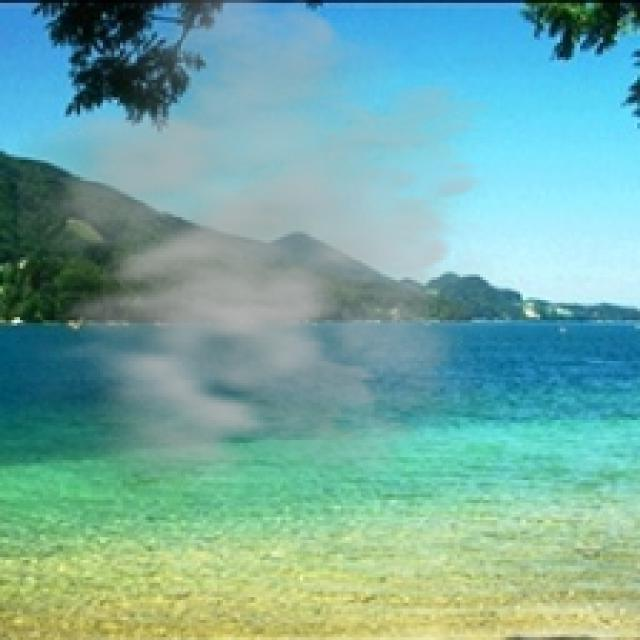Smoke: (17, 0, 543, 517)
